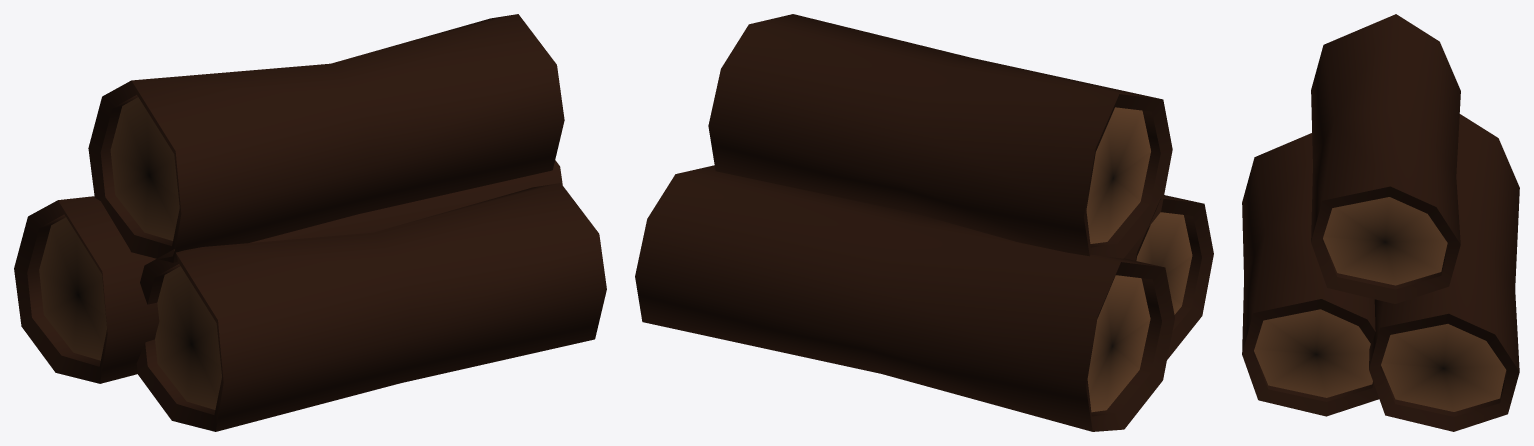
The model's file is Log_Banquet_Geo.fbx.
3 renders of one model, left to right at view 1: azimuth 30°, elevation 25°; view 2: azimuth 150°, elevation 25°; view 3: azimuth 270°, elevation 25°, orthographic. The views are drawn at different scales.
Visible parts, largest first — view 1: log3; view 2: log3; view 3: log3.
Boxes of the visible parts, <box> form: log3: <box>14,14,606,431</box>; log3: <box>635,14,1213,431</box>; log3: <box>1242,14,1519,431</box>.
Size of the model in its own units: 422 by 273 by 268.
